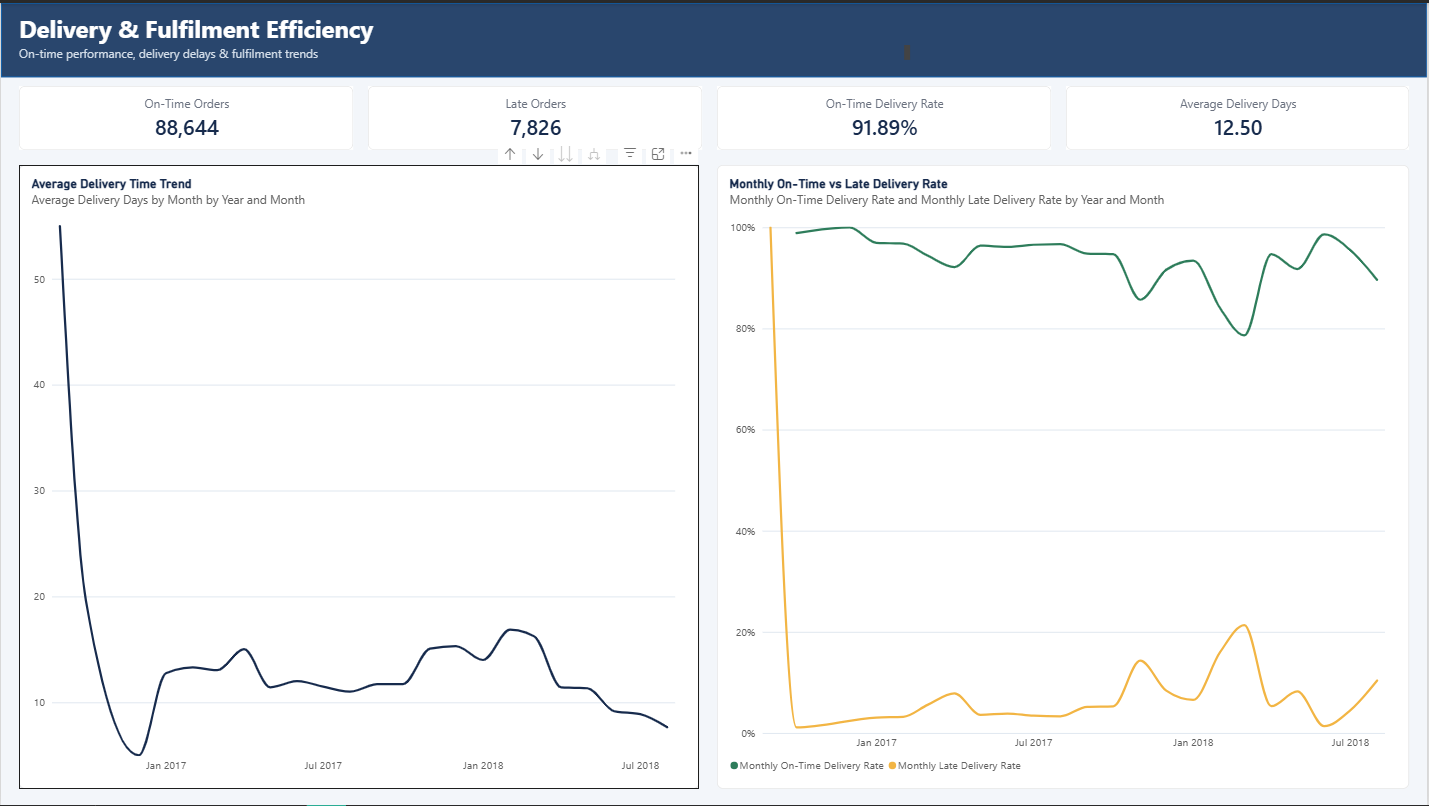

This screenshot's page, from the dashboard's own definition file:
{"tool":"powerbi","page":{"name":"Delivery & Fulfilment Efficiency","canvas":[1920,1080],"ordinal":1},"visuals":[{"type":"shape","box":[0,0,1920.3,100],"z":0},{"type":"cardVisual","title":"Late Orders","fields":{"Data":["ecommerce_analytics vw_order_item_analytics.Late Orders (Exact Display)"]},"box":[494,112,450,86],"z":1000},{"type":"cardVisual","fields":{"Data":["ecommerce_analytics vw_order_item_analytics.On-Time Orders (Exact Display)"]},"box":[24,112,450,86],"z":2000},{"type":"cardVisual","fields":{"Data":["ecommerce_analytics vw_order_item_analytics.Average Delivery Days"]},"box":[1434,112,462,86],"z":3000},{"type":"cardVisual","fields":{"Data":["ecommerce_analytics vw_order_level_analytics.On-Time Delivery Rate"]},"box":[964,112,450,86],"z":4000},{"type":"lineChart","title":"Monthly On-Time vs Late Delivery Rate","fields":{"Category":["ecommerce_analytics vw_order_level_analytics.purchase_month.Variation.Date Hierarchy.Year","ecommerce_analytics vw_order_level_analytics.purchase_month.Variation.Date Hierarchy.Month"],"Y":["ecommerce_analytics vw_order_level_analytics.Monthly On-Time Delivery Rate","ecommerce_analytics vw_order_level_analytics.Monthly Late Delivery Rate"]},"box":[964,218,932,840],"z":5000},{"type":"lineChart","title":"Average Delivery Time Trend","fields":{"Category":["ecommerce_analytics vw_order_level_analytics.purchase_month.Variation.Date Hierarchy.Year","ecommerce_analytics vw_order_level_analytics.purchase_month.Variation.Date Hierarchy.Month"],"Y":["ecommerce_analytics vw_order_level_analytics.Average Delivery Days by Month"]},"box":[24,218,916,840],"z":6000},{"type":"textbox","box":[24,12,1872,48],"z":7000},{"type":"textbox","box":[24,57,1200,28],"z":8000}]}

Visuals, with their boxes on the page's 1920x1080 design canvas (x1, y1, x2, y2). These are canvas units, not pixel positions in the 1429x806 screenshot, which may show the page scaled, cropped or inside an application window:
shape: box(0, 0, 1920, 100)
"Late Orders" cardVisual: box(494, 112, 944, 198)
cardVisual - ecommerce_analytics vw_order_item_analytics.On-Time Orders (Exact Display): box(24, 112, 474, 198)
cardVisual - ecommerce_analytics vw_order_item_analytics.Average Delivery Days: box(1434, 112, 1896, 198)
cardVisual - ecommerce_analytics vw_order_level_analytics.On-Time Delivery Rate: box(964, 112, 1414, 198)
"Monthly On-Time vs Late Delivery Rate" lineChart: box(964, 218, 1896, 1058)
"Average Delivery Time Trend" lineChart: box(24, 218, 940, 1058)
textbox: box(24, 12, 1896, 60)
textbox: box(24, 57, 1224, 85)
